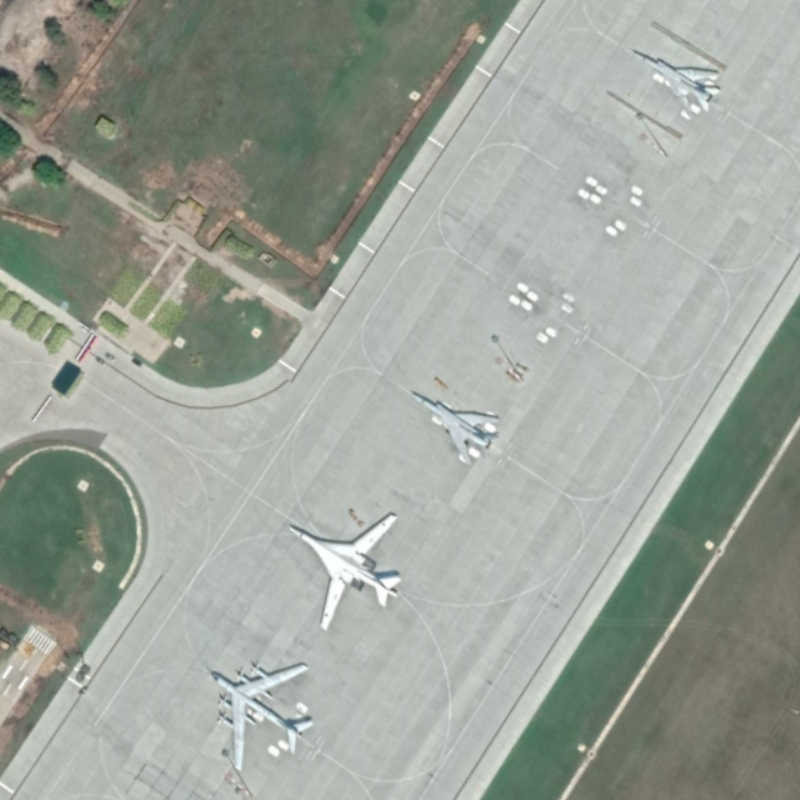A12: (406, 385, 504, 469), (626, 40, 725, 117)
A17: (206, 660, 318, 776)
A6: (284, 510, 409, 634)
